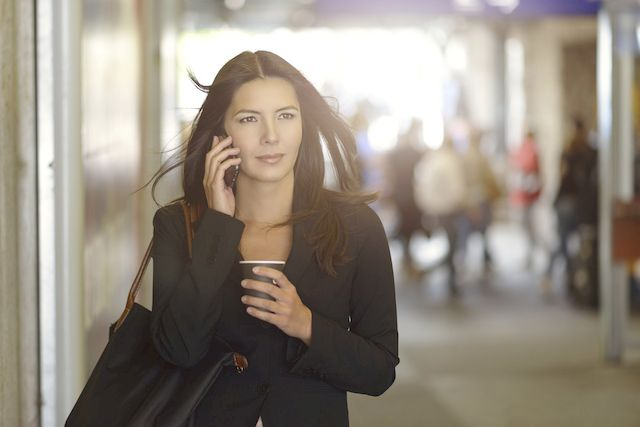phone: (211, 126, 240, 197)
talk: (200, 101, 303, 220)
